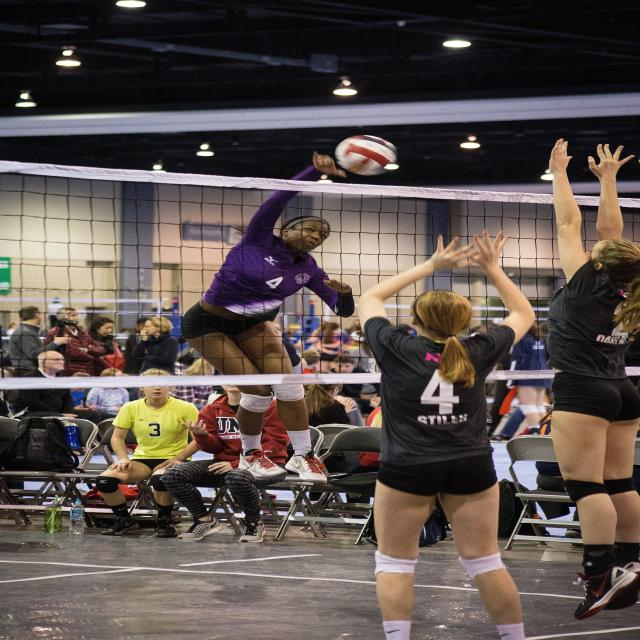body: (353, 228, 536, 640), (181, 150, 357, 487), (539, 135, 640, 622), (161, 374, 294, 544), (93, 368, 202, 540), (286, 315, 414, 404), (304, 382, 365, 510), (506, 320, 555, 435), (6, 305, 72, 377), (16, 350, 84, 419), (44, 306, 108, 378), (131, 316, 180, 376), (170, 358, 216, 411), (59, 372, 102, 427), (84, 368, 130, 416), (88, 316, 123, 371), (130, 315, 157, 350), (2, 322, 18, 340)
